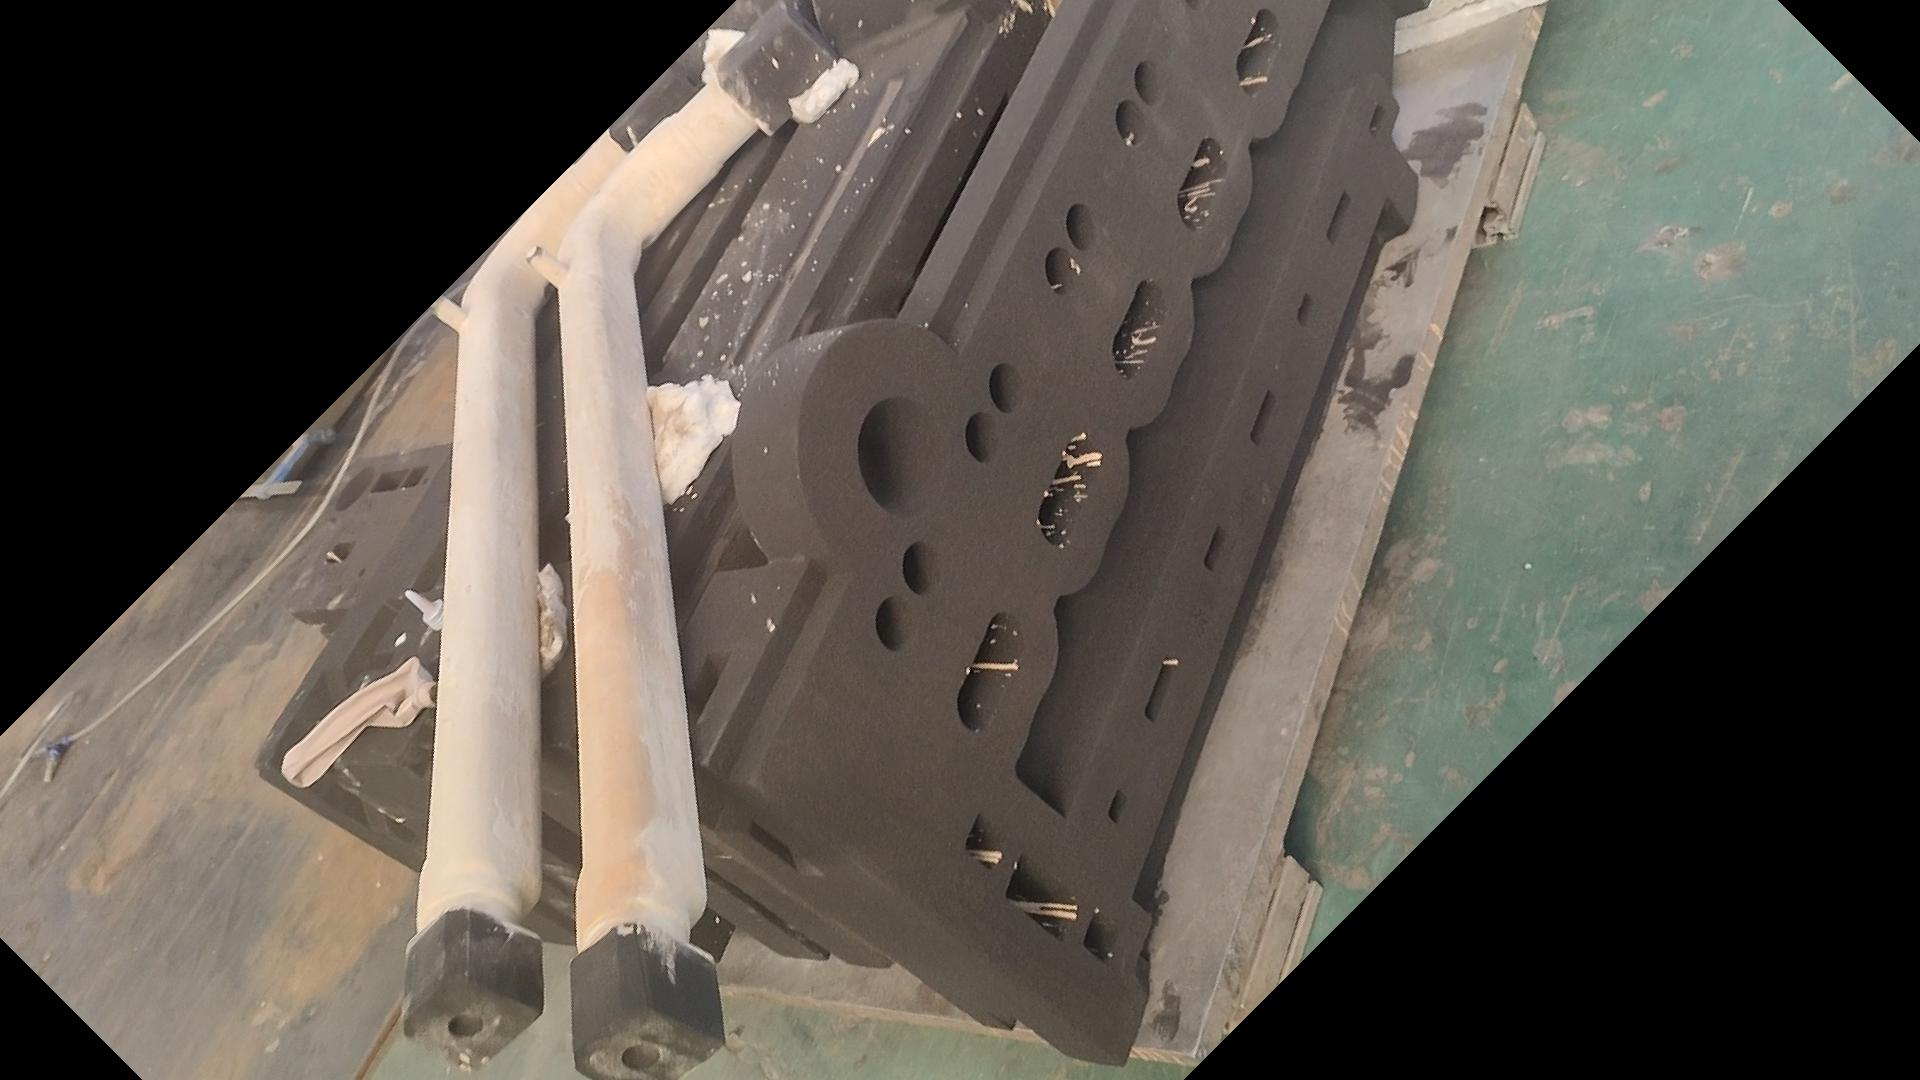pouring hole: (858, 396, 951, 516), (334, 465, 375, 512)
